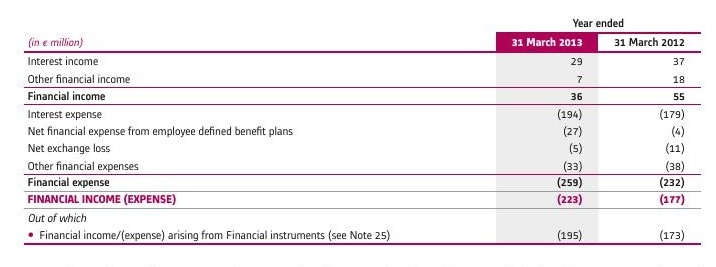table: (0, 0, 716, 267)
